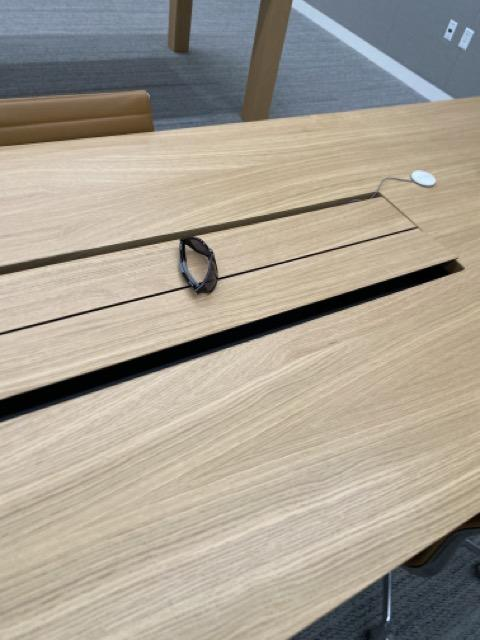Sunglasses: (179, 232, 219, 297)
